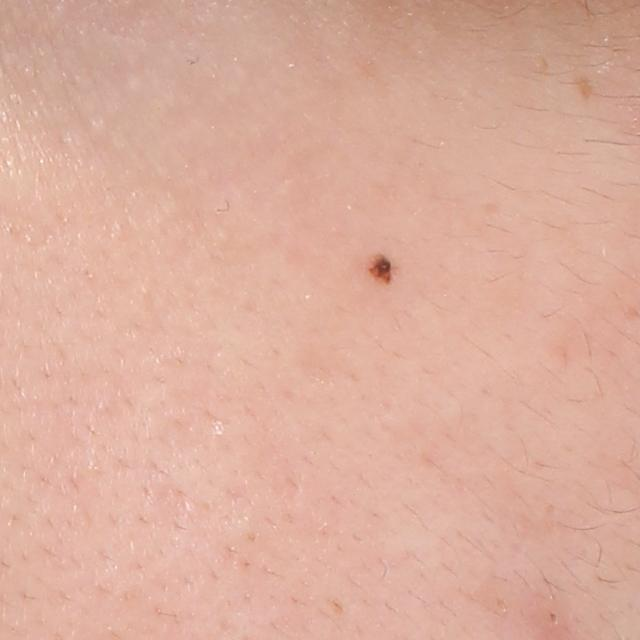comedo: (545, 608, 562, 629)
melasma: (571, 74, 598, 101)
nevus: (366, 250, 397, 286)
